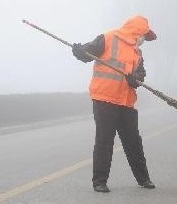person: (72, 16, 157, 192)
